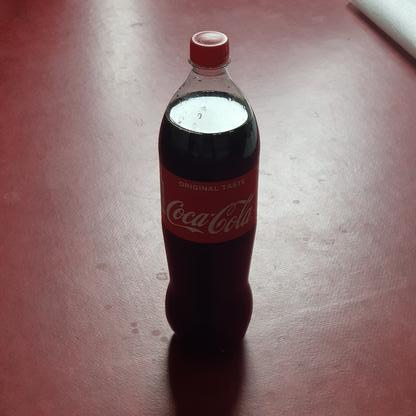coca-cola: (156, 29, 261, 355)
